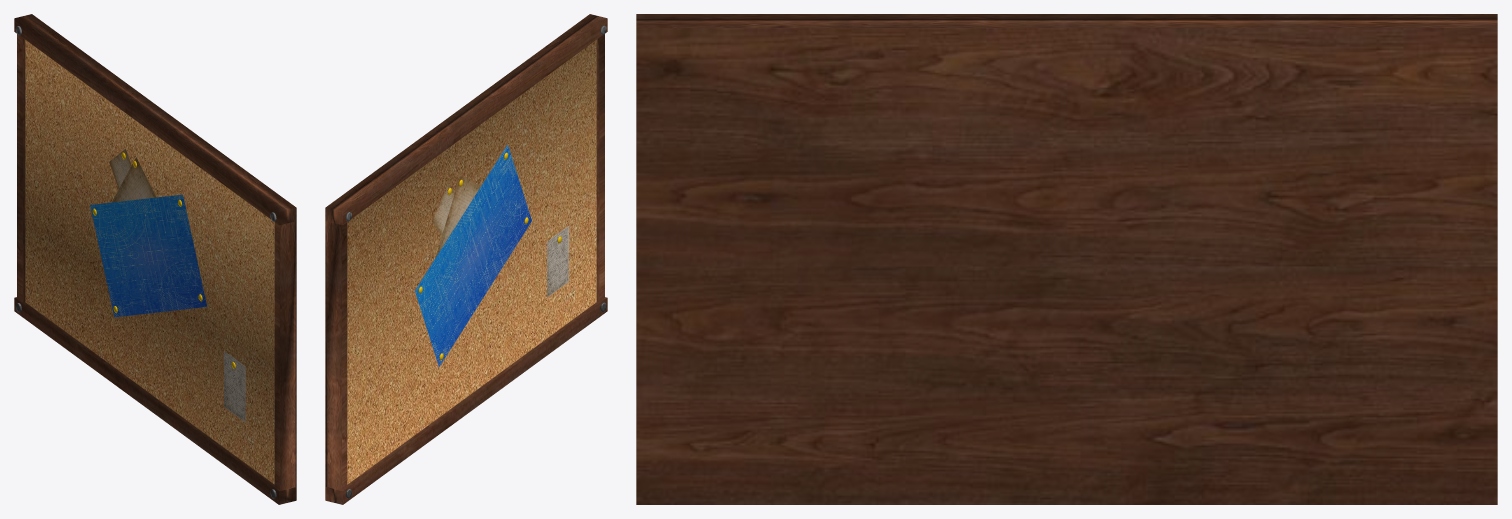
File: noticeboard 1.fbx
The picture shows the model from 3 angles, left to right: view 1: azimuth 30°, elevation 25°; view 2: azimuth 150°, elevation 25°; view 3: azimuth 270°, elevation 25°; orthographic projection. The views are drawn at different scales.
Visible parts, largest first — view 1: Cube, Plane.002_Material.003_0, Plane.003_Material.006_0, Plane_Material.004_0, Plane.001_Material.005_0; view 2: Cube, Plane.002_Material.003_0, Plane.003_Material.006_0, Plane_Material.004_0, Plane.001_Material.005_0; view 3: Cube.
Part boxes in pixels (x1=…): Cube: x1=14, y1=14, x2=296, y2=504; Plane.002_Material.003_0: x1=90, y1=194, x2=207, y2=317; Plane.003_Material.006_0: x1=224, y1=351, x2=245, y2=422; Plane_Material.004_0: x1=112, y1=157, x2=156, y2=202; Plane.001_Material.005_0: x1=109, y1=149, x2=131, y2=188; Cube: x1=325, y1=14, x2=607, y2=504; Plane.002_Material.003_0: x1=415, y1=144, x2=531, y2=367; Plane.003_Material.006_0: x1=547, y1=226, x2=568, y2=297; Plane_Material.004_0: x1=435, y1=176, x2=480, y2=258; Plane.001_Material.005_0: x1=432, y1=184, x2=454, y2=235; Cube: x1=636, y1=14, x2=1497, y2=504.
Bounding box in the file's own units: 46.38 × 682 × 1116.
Materials: 8 (8 with a texture image).
